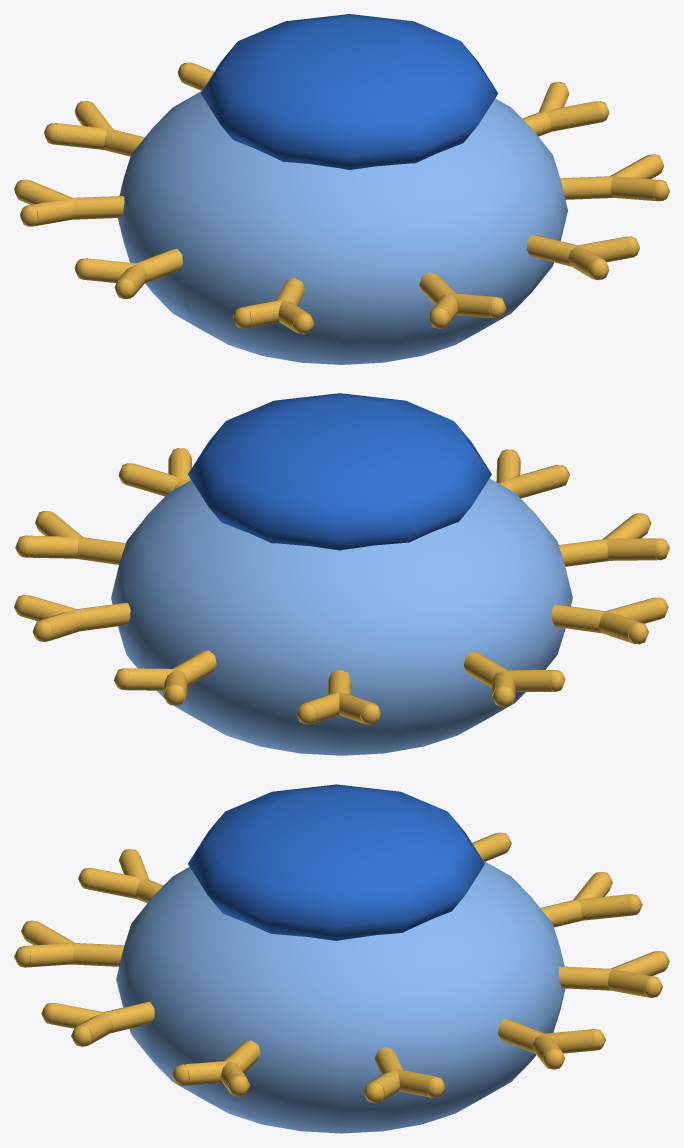
Rendered from bcell.glb.
3 renders of one model, top to bottom at view 1: azimuth 30°, elevation 25°; view 2: azimuth 150°, elevation 25°; view 3: azimuth 270°, elevation 25°, orthographic. The views are drawn at different scales.
Visible parts, largest first — view 1: IW_L2_x_bcell; view 2: IW_L2_x_bcell; view 3: IW_L2_x_bcell.
Part boxes in pixels (x1=…): IW_L2_x_bcell: x1=14, y1=14, x2=669, y2=364; IW_L2_x_bcell: x1=14, y1=393, x2=669, y2=755; IW_L2_x_bcell: x1=14, y1=784, x2=669, y2=1133.
Bounding box in the file's own units: 2.37 × 1.16 × 2.38.
